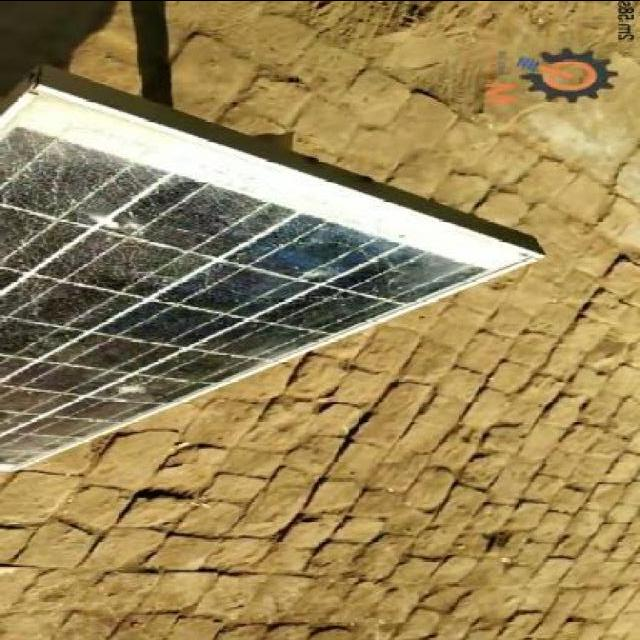cracked: (0, 86, 533, 469)
